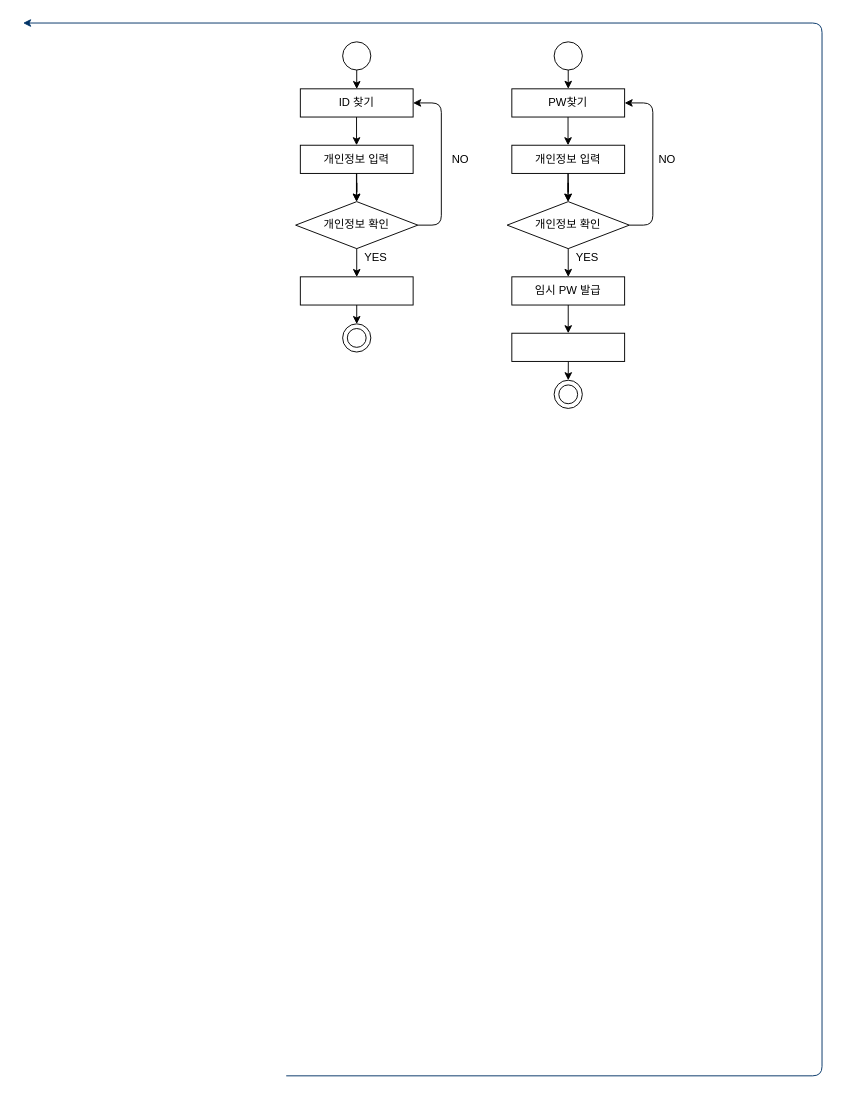
The diagram is 846 pixels wide and 1100 high, and some of its shapes have lost their labels. Each missing label, with the centre of its shape:
"ID 조회" goes at point 356,290.
"이메일 발송" goes at point 568,346.
